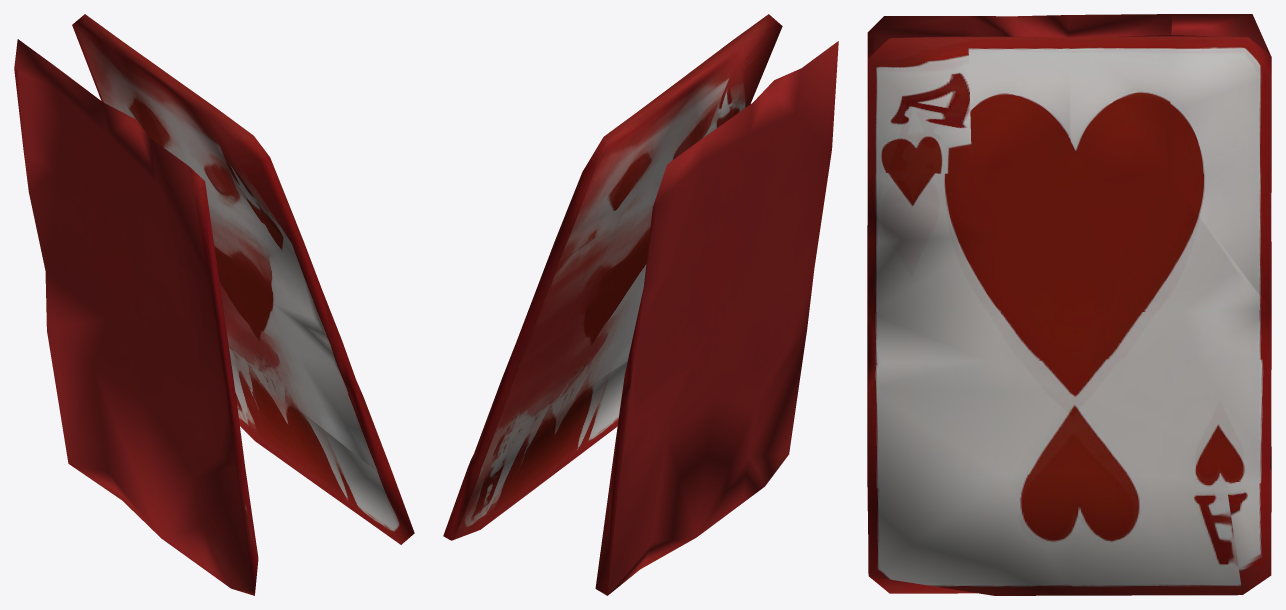
File: playing_card.glb
3 renders of one model, left to right at view 1: azimuth 30°, elevation 25°; view 2: azimuth 150°, elevation 25°; view 3: azimuth 270°, elevation 25°, orthographic. The views are drawn at different scales.
Visible parts, largest first — view 1: tripo_node_60bc201d-e7f7-4b2a-aac3-20295f85c469; view 2: tripo_node_60bc201d-e7f7-4b2a-aac3-20295f85c469; view 3: tripo_node_60bc201d-e7f7-4b2a-aac3-20295f85c469.
Part boxes in pixels (<box>): tripo_node_60bc201d-e7f7-4b2a-aac3-20295f85c469: <box>14,14,414,595</box>; tripo_node_60bc201d-e7f7-4b2a-aac3-20295f85c469: <box>443,14,838,595</box>; tripo_node_60bc201d-e7f7-4b2a-aac3-20295f85c469: <box>867,14,1271,595</box>.
Size of the model in its own units: 0.5065 by 0.9998 by 0.7402.
Materials: 1 (1 with a texture image).
